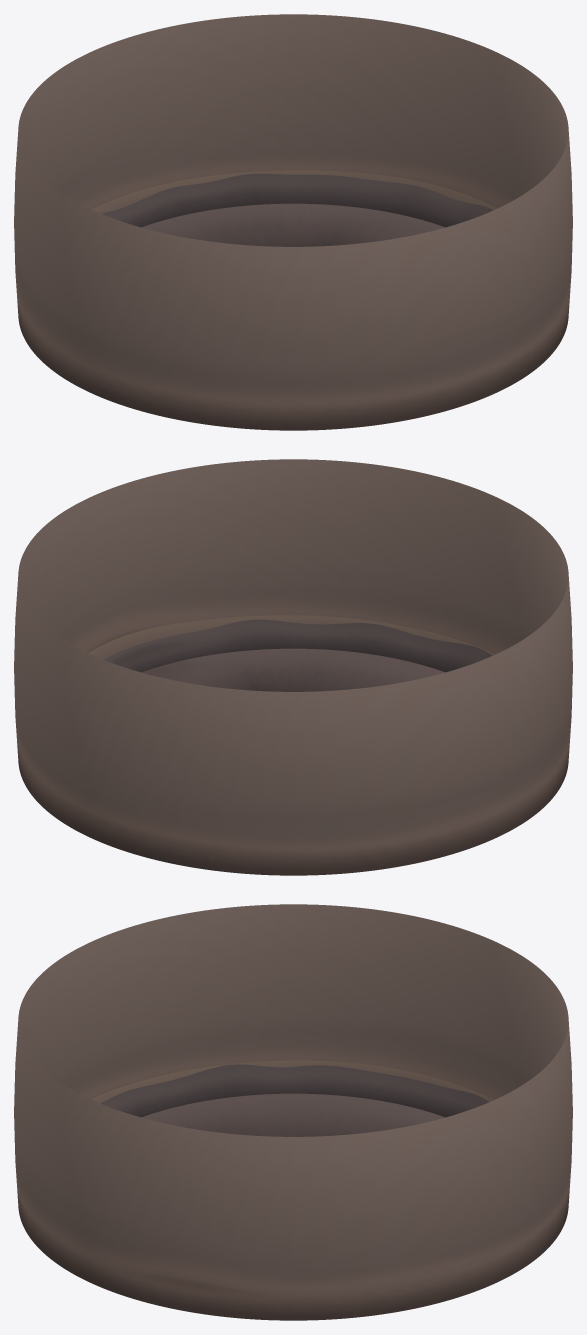
File: devils-alley-panorama.glb
The picture shows the model from 3 angles, top to bottom: view 1: azimuth 30°, elevation 25°; view 2: azimuth 150°, elevation 25°; view 3: azimuth 270°, elevation 25°; orthographic projection.
Visible parts, largest first — view 1: DevilsAlleyPanorama; view 2: DevilsAlleyPanorama; view 3: DevilsAlleyPanorama.
Part boxes in pixels (<box>): DevilsAlleyPanorama: <box>14,14,572,430</box>; DevilsAlleyPanorama: <box>14,459,572,875</box>; DevilsAlleyPanorama: <box>14,904,572,1320</box>.
Size of the model in its own units: 386 by 140 by 386.
1 material, 1 textured.
